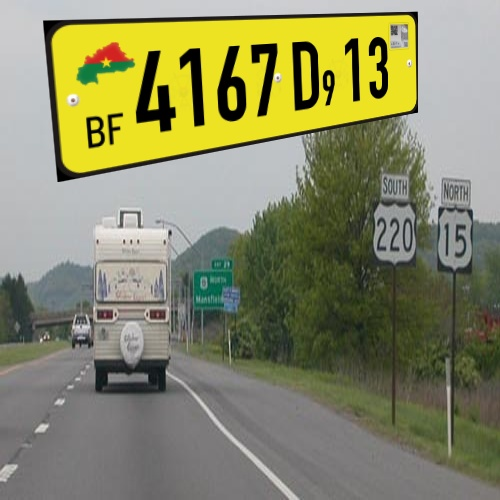plate: (36, 5, 434, 183)
